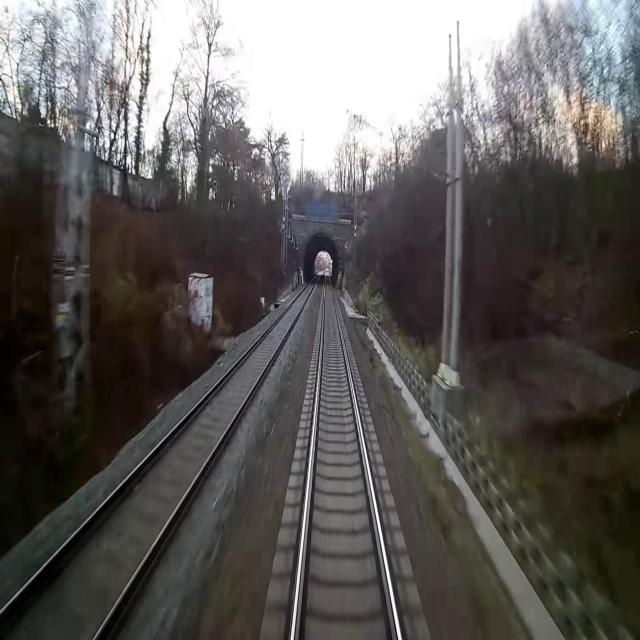rail-track: (0, 270, 321, 639), (295, 268, 397, 639)
